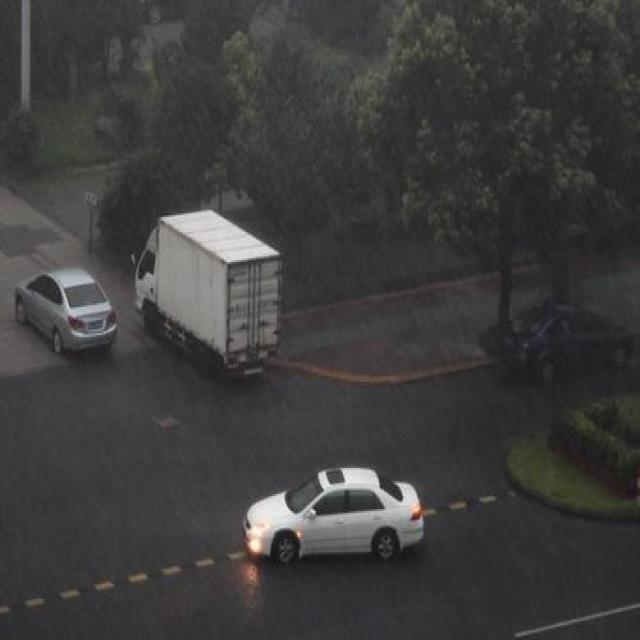car: (129, 206, 284, 372), (240, 462, 422, 562), (494, 298, 638, 382), (12, 262, 116, 352)
